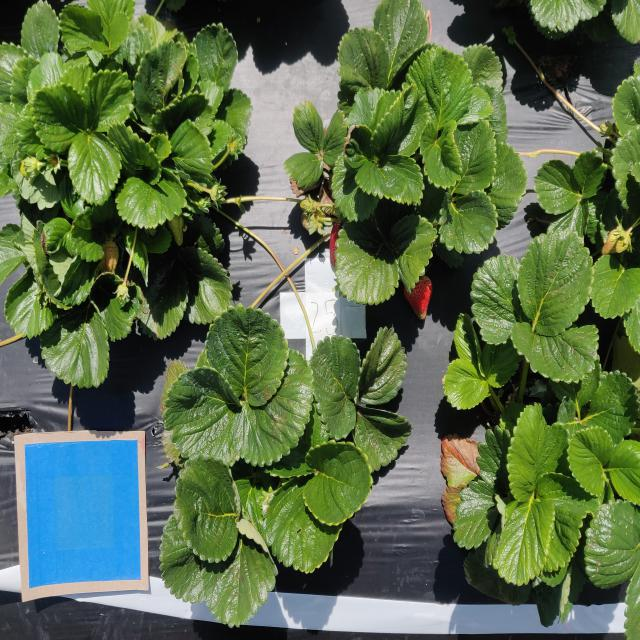ripe: (602, 228, 632, 258), (98, 238, 120, 276), (169, 212, 187, 247), (19, 156, 36, 182), (299, 198, 310, 212)
unripe: (404, 275, 433, 320), (328, 220, 343, 268)
